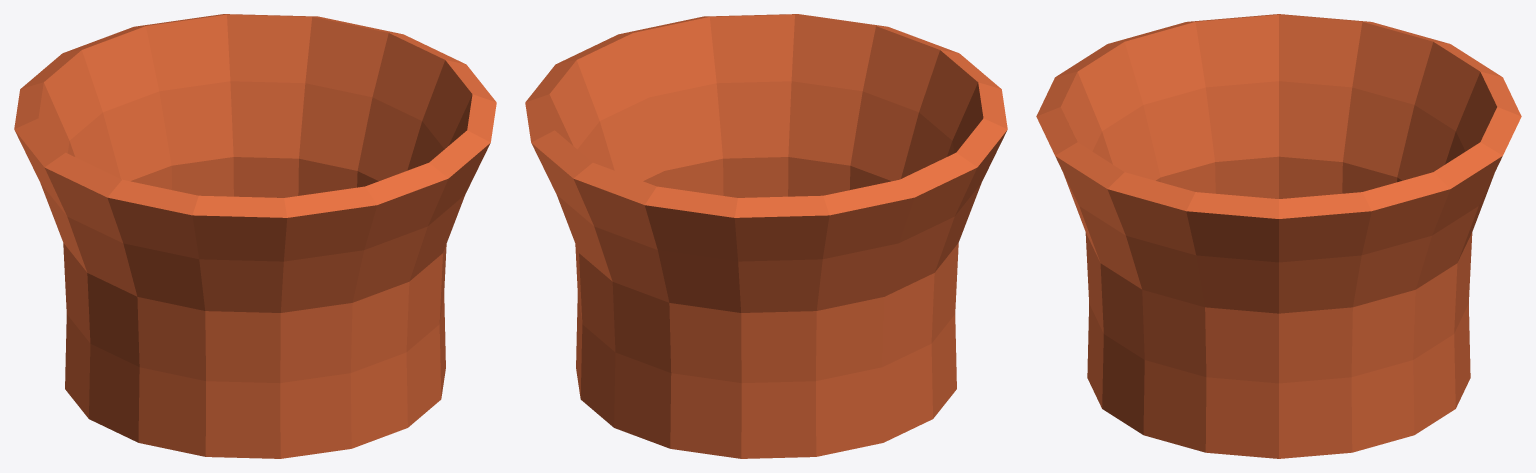
The model's file is tapa2.fbx.
The picture shows the model from 3 angles, left to right: view 1: azimuth 30°, elevation 25°; view 2: azimuth 150°, elevation 25°; view 3: azimuth 270°, elevation 25°; orthographic projection.
Visible parts, largest first — view 1: Tapa1; view 2: Tapa1; view 3: Tapa1.
Boxes of the visible parts, left/top/right/bottom form: Tapa1: left=14, top=14, right=496, bottom=458; Tapa1: left=525, top=14, right=1007, bottom=458; Tapa1: left=1036, top=14, right=1521, bottom=458.
Bounding box in the file's own units: 14.58 × 9 × 14.58.
Materials: 1 (1 with a texture image).
